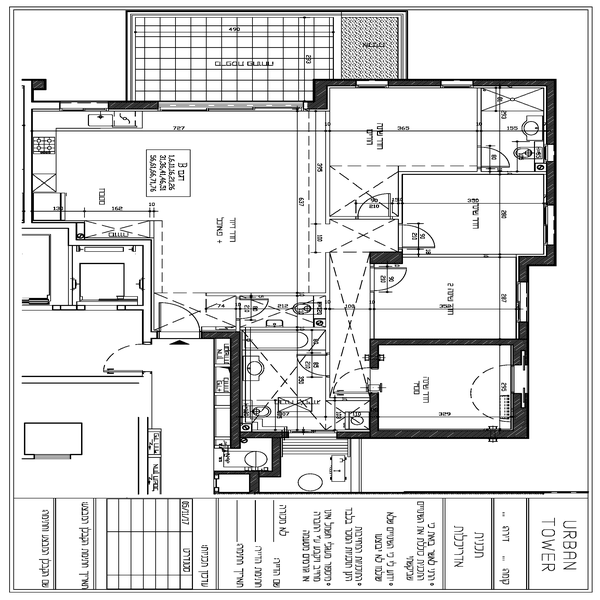door: (154, 292, 205, 337), (327, 367, 385, 403), (393, 207, 436, 251), (357, 184, 402, 225), (295, 349, 332, 389), (368, 267, 411, 298)
room: (18, 95, 332, 333), (316, 71, 557, 271), (364, 333, 536, 447), (217, 328, 372, 440), (372, 249, 535, 344)
wall: (328, 424, 531, 443), (224, 318, 246, 445), (369, 334, 519, 350), (221, 467, 268, 499), (476, 74, 559, 92), (307, 79, 356, 108), (106, 94, 157, 113), (511, 387, 530, 437), (386, 75, 441, 92), (541, 83, 557, 141), (540, 159, 558, 206), (366, 247, 412, 265), (523, 244, 557, 268), (368, 383, 383, 434), (239, 431, 293, 444), (269, 432, 284, 478)
window: (159, 96, 304, 115), (539, 200, 561, 248), (514, 282, 532, 328), (54, 99, 109, 112), (439, 77, 478, 95), (358, 78, 387, 92), (542, 146, 558, 161)
